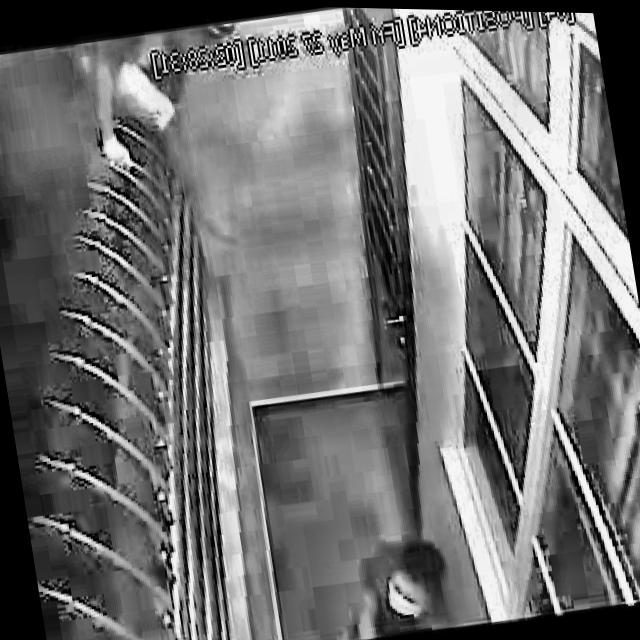burglary: (73, 21, 269, 264), (334, 528, 459, 640)
